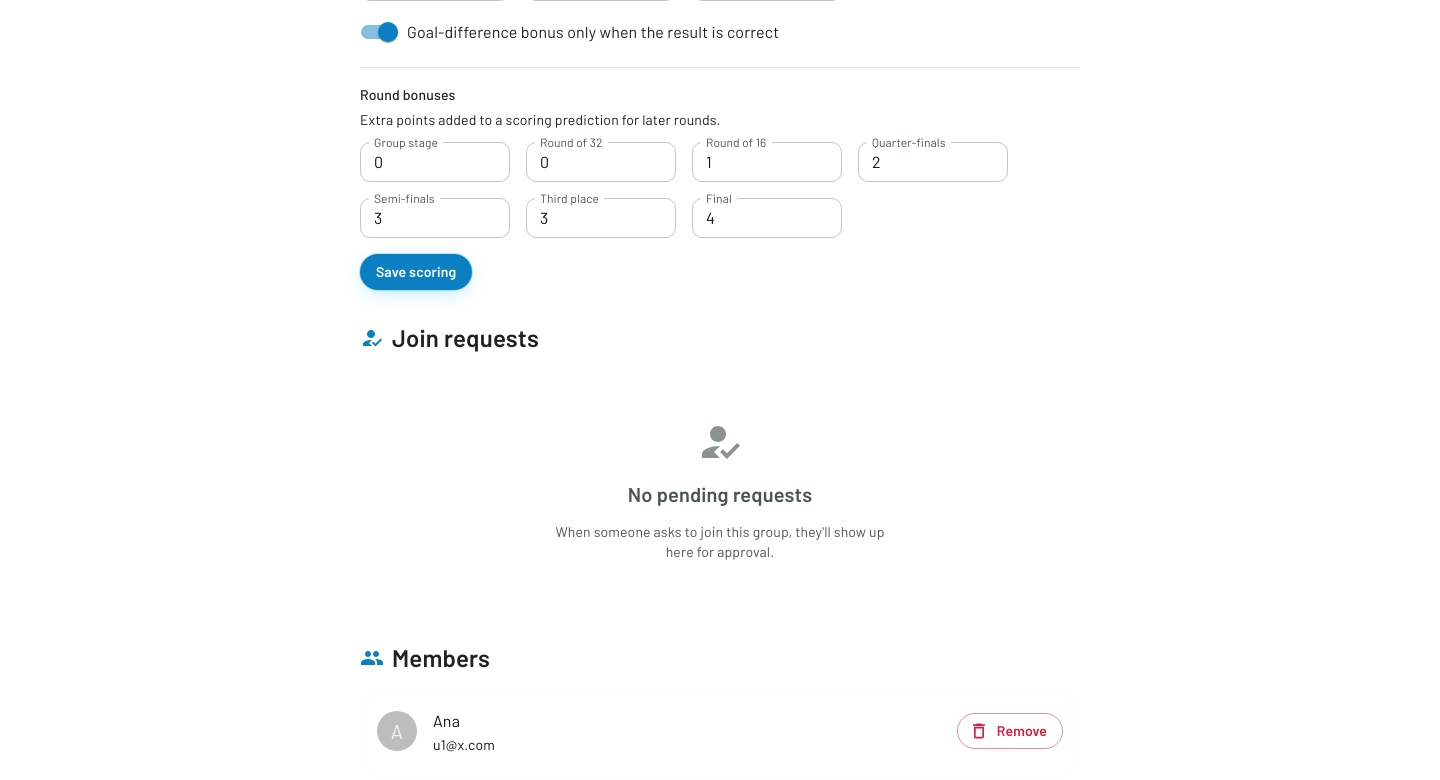
Test: AdminPage — remove member › clicking Remove opens the confirm dialog and does NOT delete
(page scrolled)
Step 1. Click the button with aria-label "remove ana" → (1010, 731), box [957, 713, 1063, 749]
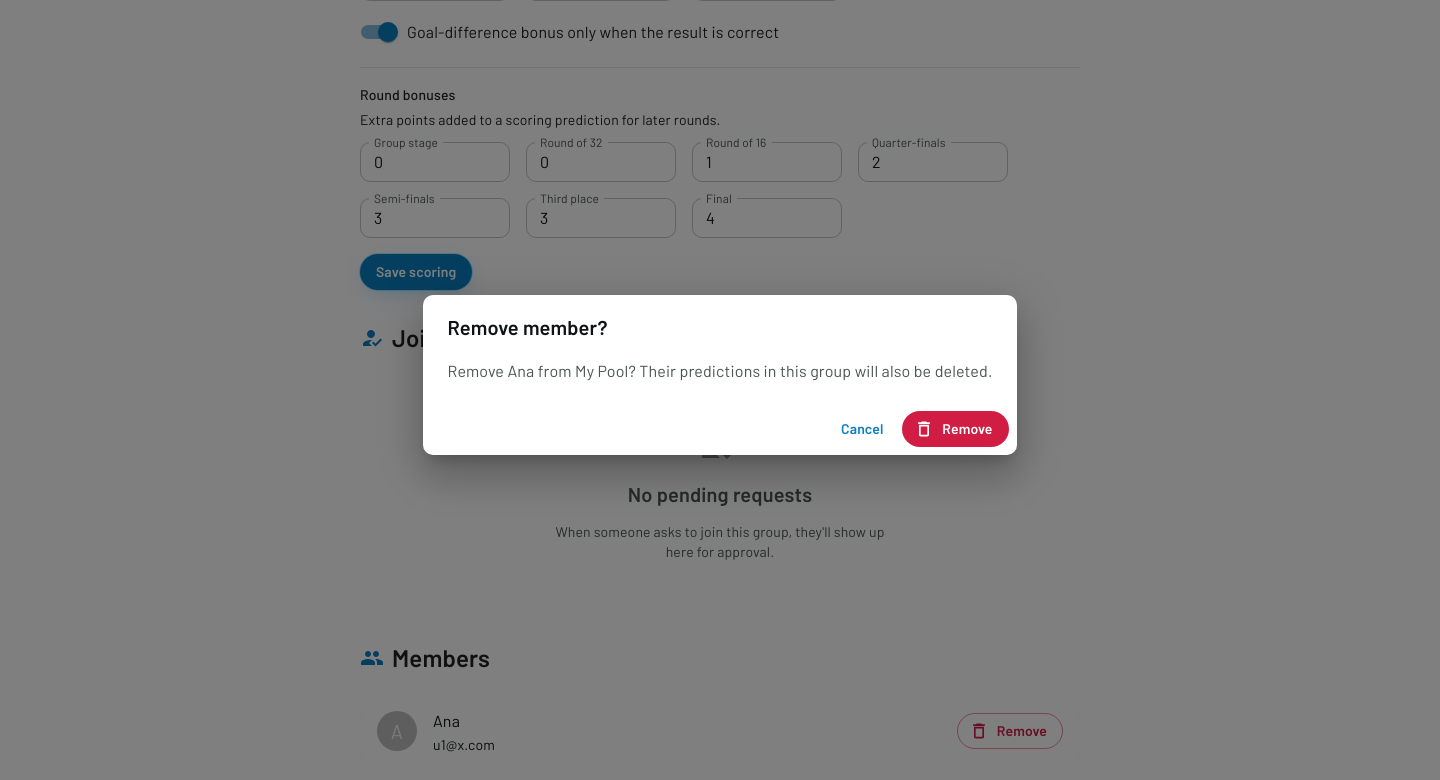
Now the dialog is shown, box [424, 295, 1016, 455]
Now the text "Remove Ana from My Pool?" is shown, box [448, 361, 992, 380]
